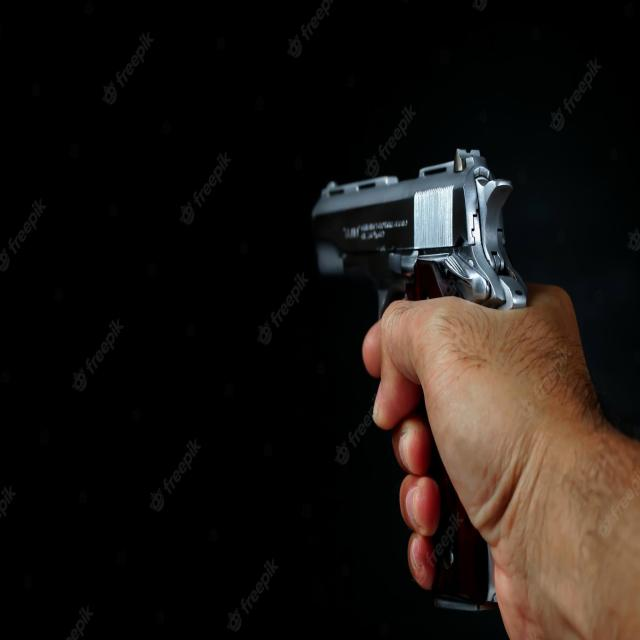HandGun: (311, 149, 527, 321)
